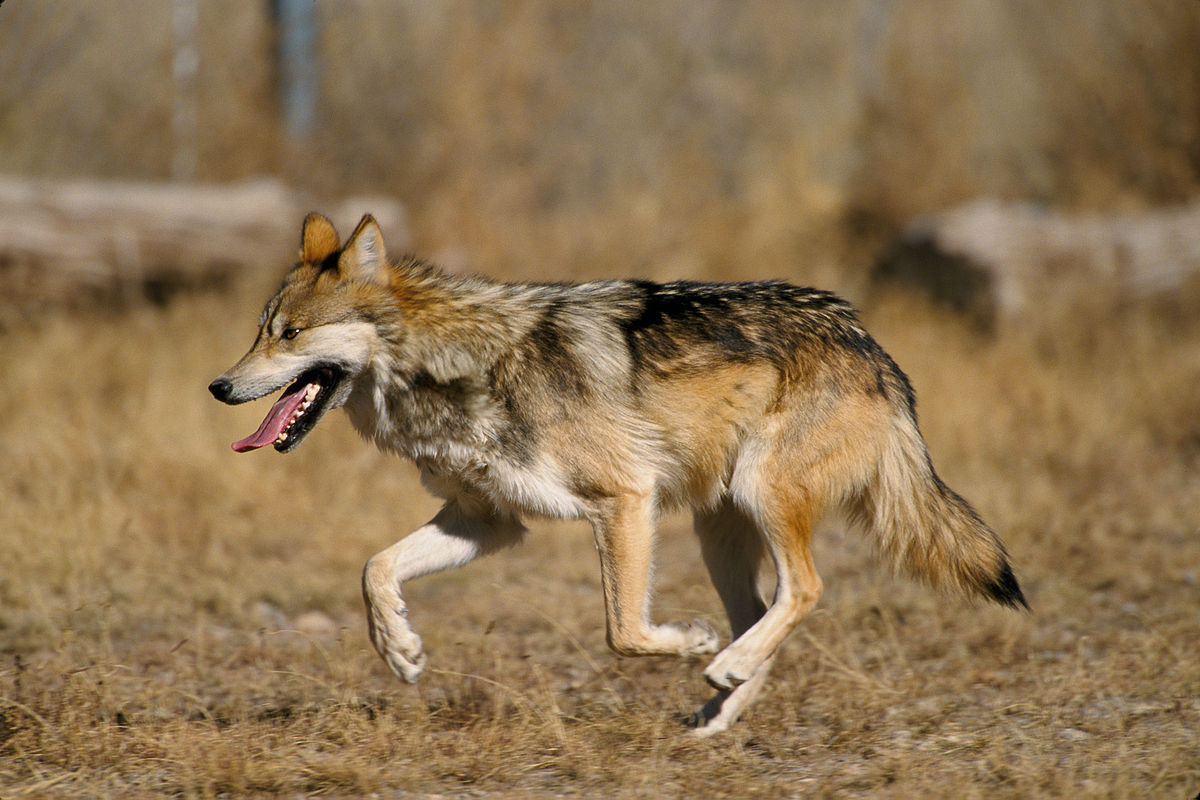Lobo: (156, 201, 1034, 734)
